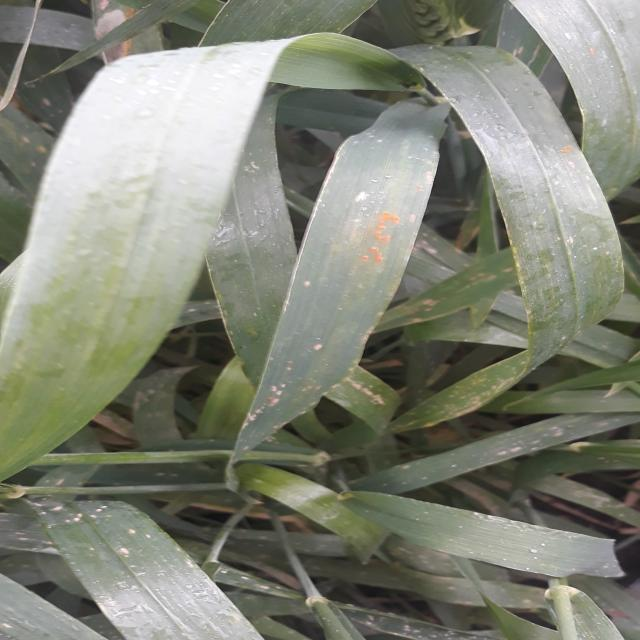orang_rust: (352, 205, 415, 272), (557, 141, 589, 172)
powder_mildew: (0, 497, 231, 640), (244, 317, 361, 452), (380, 432, 580, 492), (403, 250, 529, 335), (411, 355, 539, 436), (488, 197, 628, 259), (325, 595, 512, 640), (122, 360, 210, 453), (5, 64, 70, 180), (317, 363, 404, 438), (493, 2, 550, 81), (216, 560, 300, 598)
